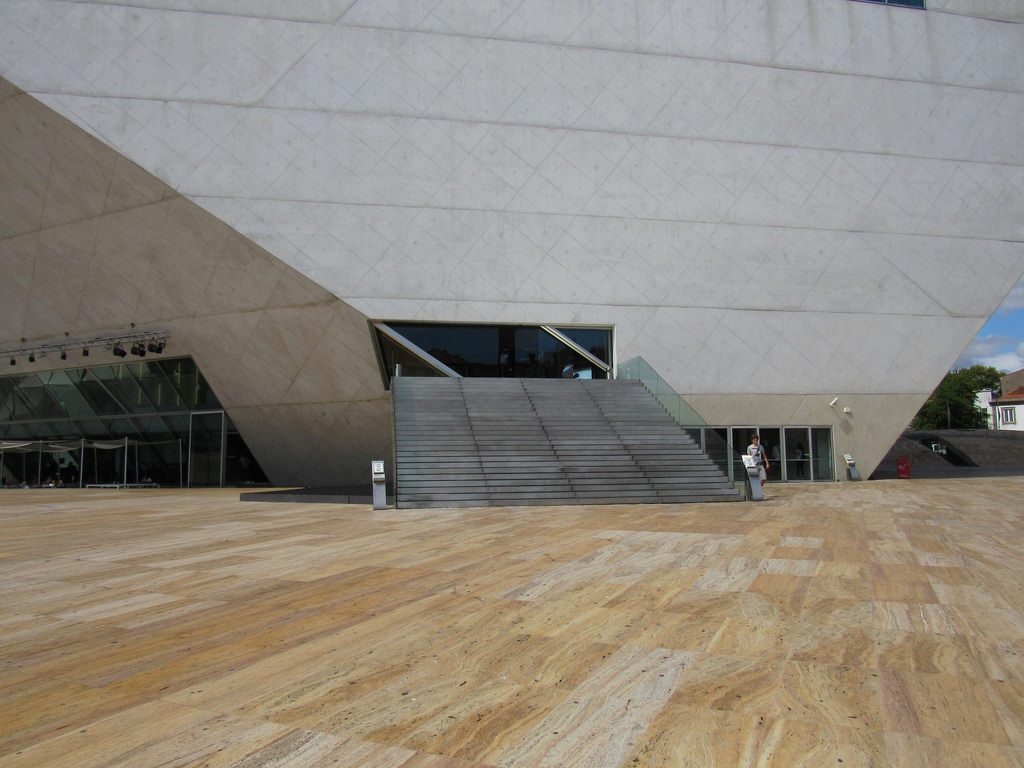musica: (0, 0, 1023, 488)
